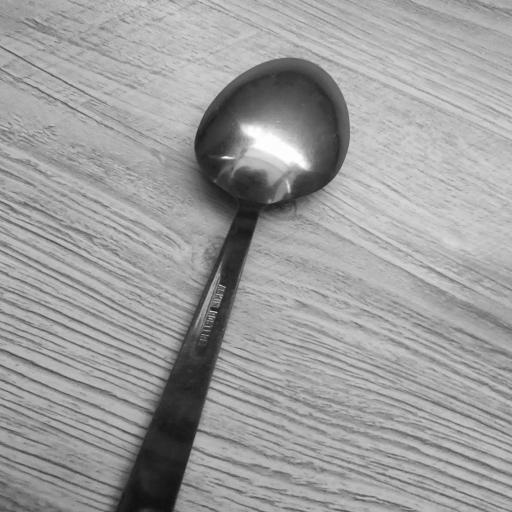spoon: (112, 57, 357, 512)
